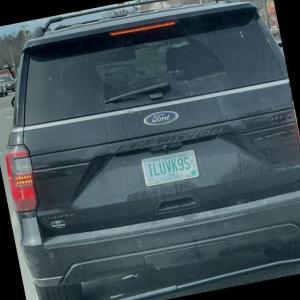Plate: (141, 149, 200, 187)
